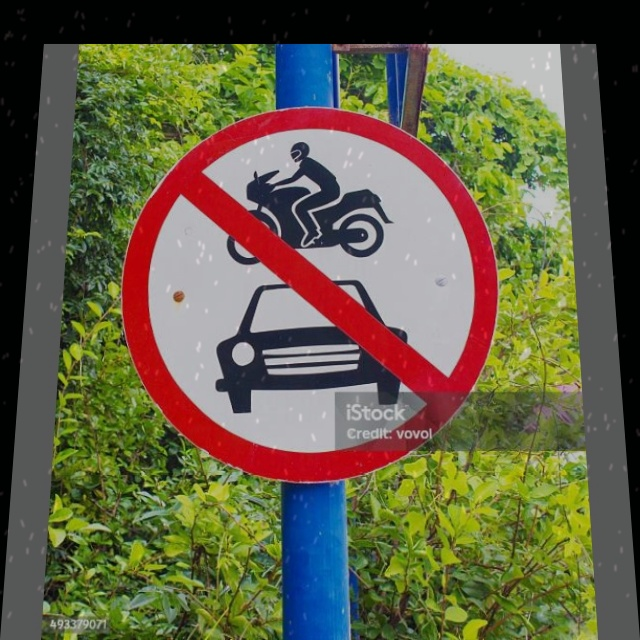All_Motor_Vehicles_Prohibited: (117, 113, 505, 479)
